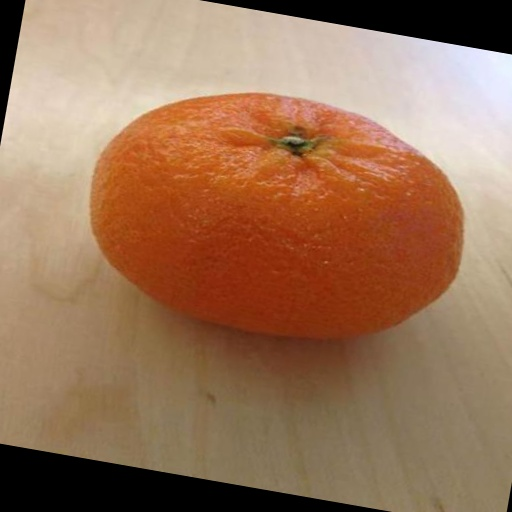fruit: (91, 93, 463, 338)
